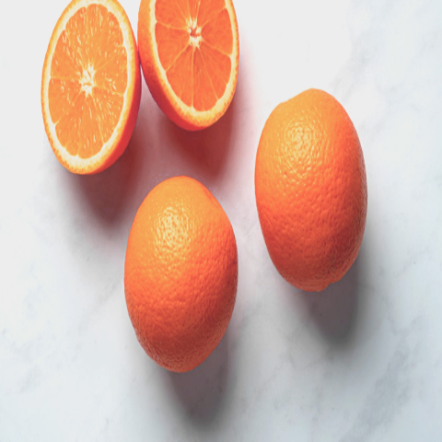orange: (244, 85, 373, 297), (114, 170, 246, 369)
